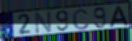2: (17, 14, 32, 36)
9: (55, 9, 69, 32), (94, 7, 107, 29)
A: (109, 5, 130, 28)
C: (72, 8, 91, 31)
N: (35, 10, 53, 36)
